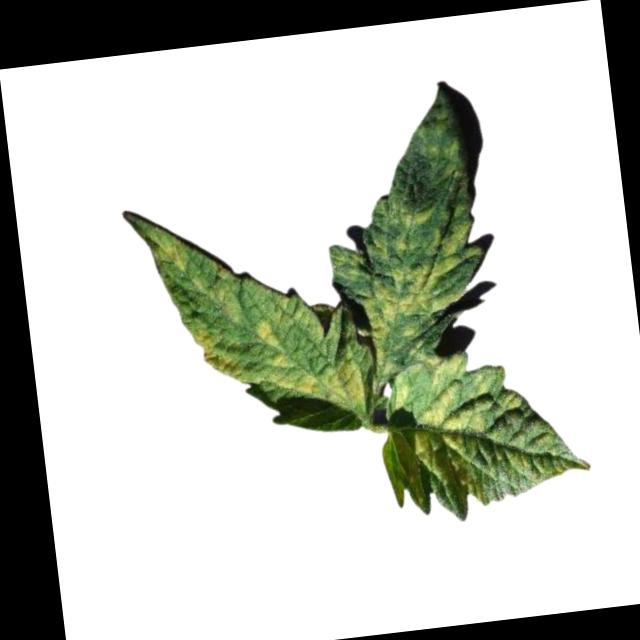Leaf_Mold: (122, 183, 367, 453), (322, 75, 496, 372), (373, 343, 589, 528)
